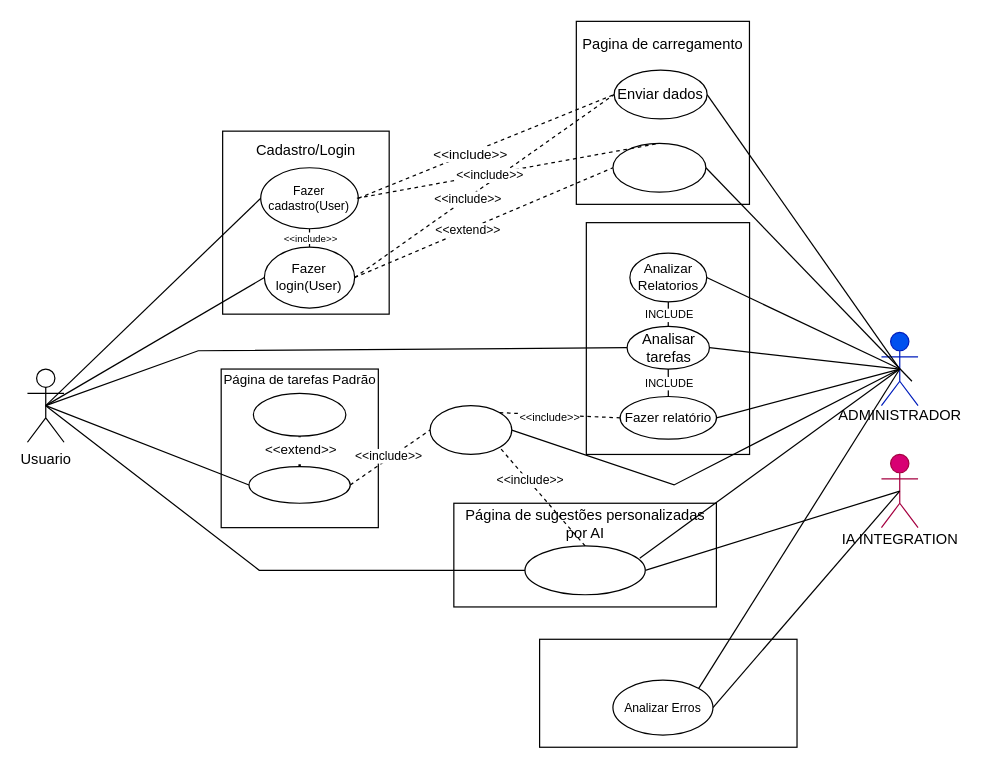
Image size: 994x769. Some labels were removed from this diagram. The box of each missing label's shape, as (x1, y1, x2, y2) in pixels:
CRUD: (429, 404, 512, 454)
Enviar notificações: (252, 392, 346, 436)
Manipular sugestões personalizadas: (524, 545, 645, 595)
Manipular tarefas: (248, 465, 350, 503)
Pagina de logs e tratamento de erros:: (538, 638, 797, 747)
Pagina de relatórios: (585, 221, 750, 454)
Validar dados: (612, 142, 706, 192)
